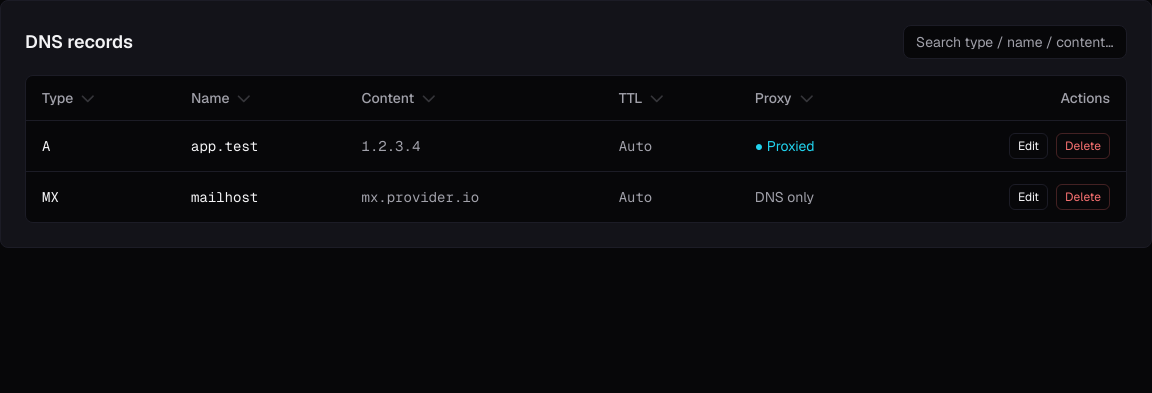
it: DnsRecordsTable › opens an inline edit form when Edit is clicked
Click the button "Edit" in the row of "app.test" at (1029, 146), box [1009, 133, 1048, 159]
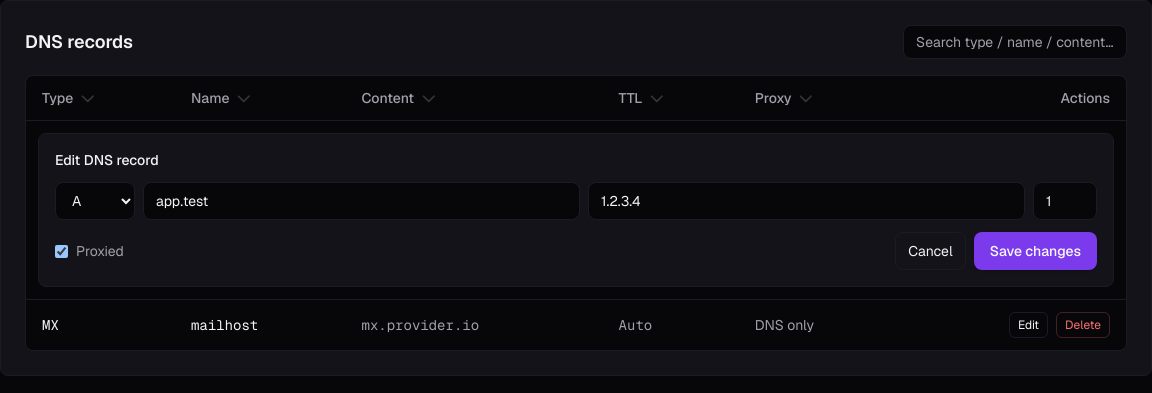
Now the text "Edit DNS record" is shown, box [55, 151, 159, 169]
